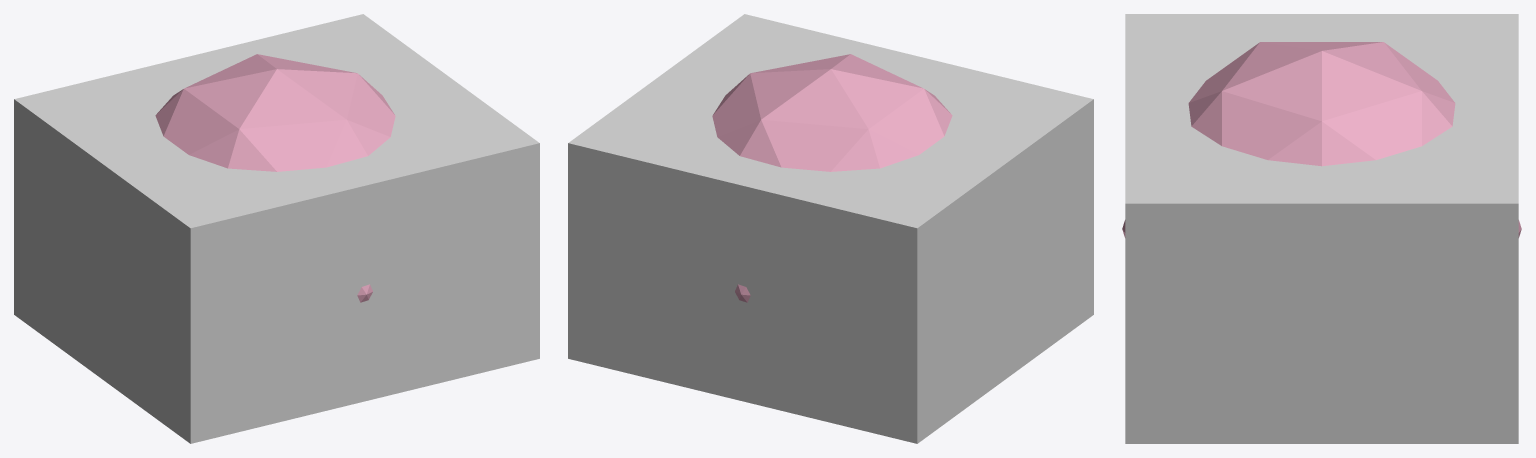
The picture shows the model from 3 angles, left to right: view 1: azimuth 30°, elevation 25°; view 2: azimuth 150°, elevation 25°; view 3: azimuth 270°, elevation 25°; orthographic projection. The views are drawn at different scales.
Visible parts, largest first — view 1: Cube, Icosphere; view 2: Cube, Icosphere; view 3: Cube, Icosphere.
Boxes of the visible parts, <box> form: Cube: <box>14,14,539,443</box>; Icosphere: <box>155,54,395,302</box>; Cube: <box>568,14,1093,443</box>; Icosphere: <box>712,54,952,302</box>; Cube: <box>1125,14,1518,443</box>; Icosphere: <box>1122,42,1521,237</box>.
Bounding box in the file's own units: 400 × 350 × 356.
